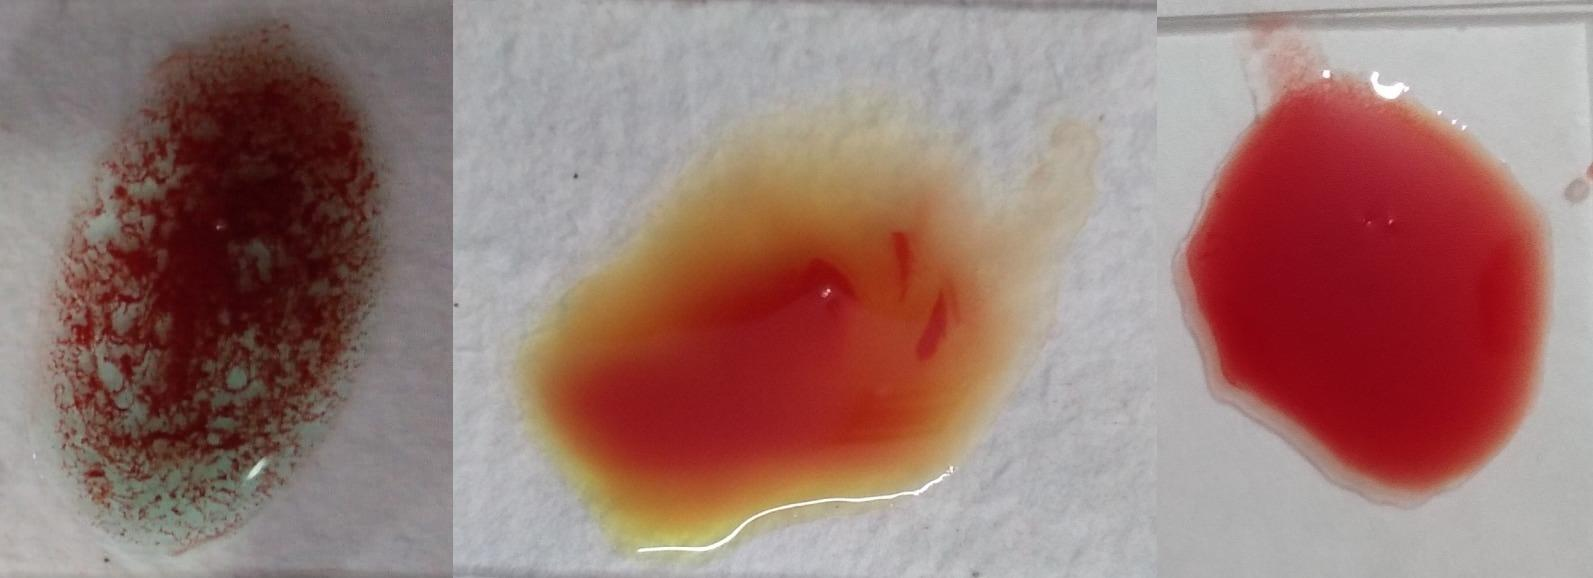A: (67, 23, 378, 558)
